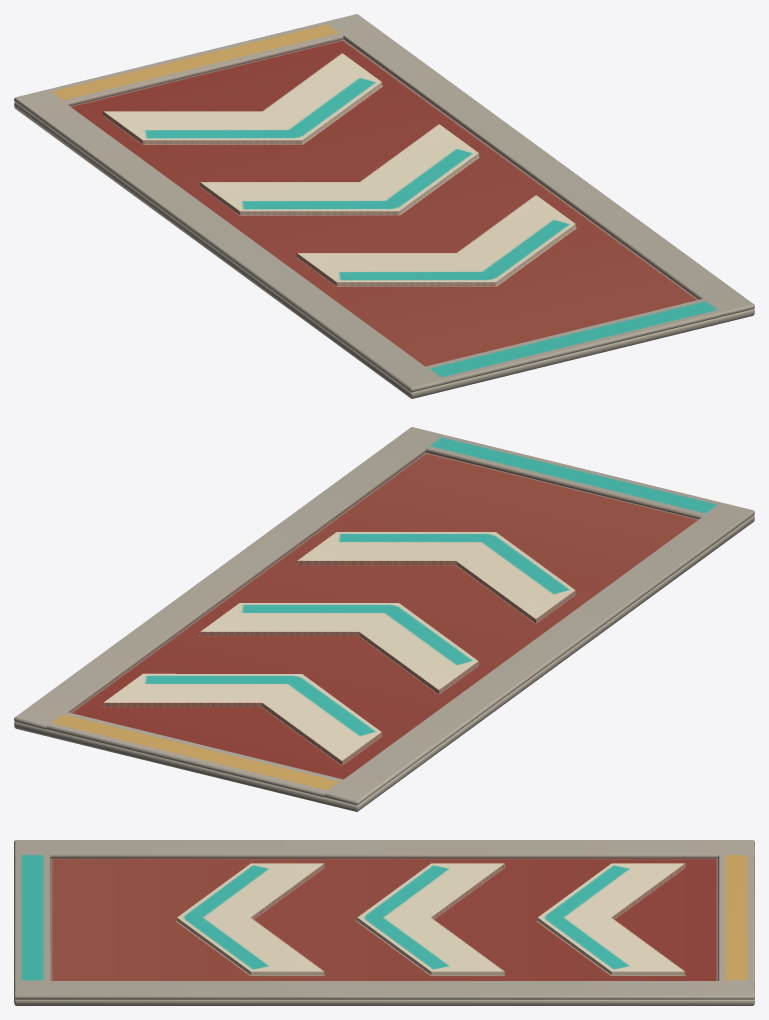
Rendered from pad_speed.glb.
3 views of the same model, one above another, from view 1: azimuth 30°, elevation 25°; view 2: azimuth 150°, elevation 25°; view 3: azimuth 270°, elevation 25° (orthographic). The views are drawn at different scales.
Parts seen in each view (by area): view 1: pad_speed.001; view 2: pad_speed.001; view 3: pad_speed.001.
Part boxes in pixels (<box>): pad_speed.001: <box>14,14,754,398</box>; pad_speed.001: <box>14,427,754,811</box>; pad_speed.001: <box>14,840,754,1005</box>.
Bounding box in the file's own units: 1.5 × 0.05 × 3.
Materials: 1 (1 with a texture image).
